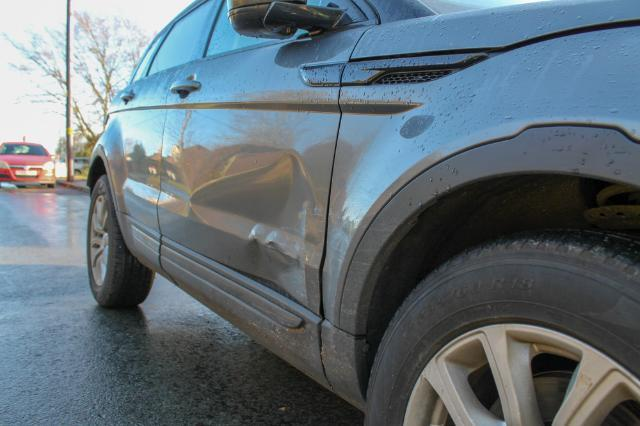dent: (190, 154, 321, 308)
